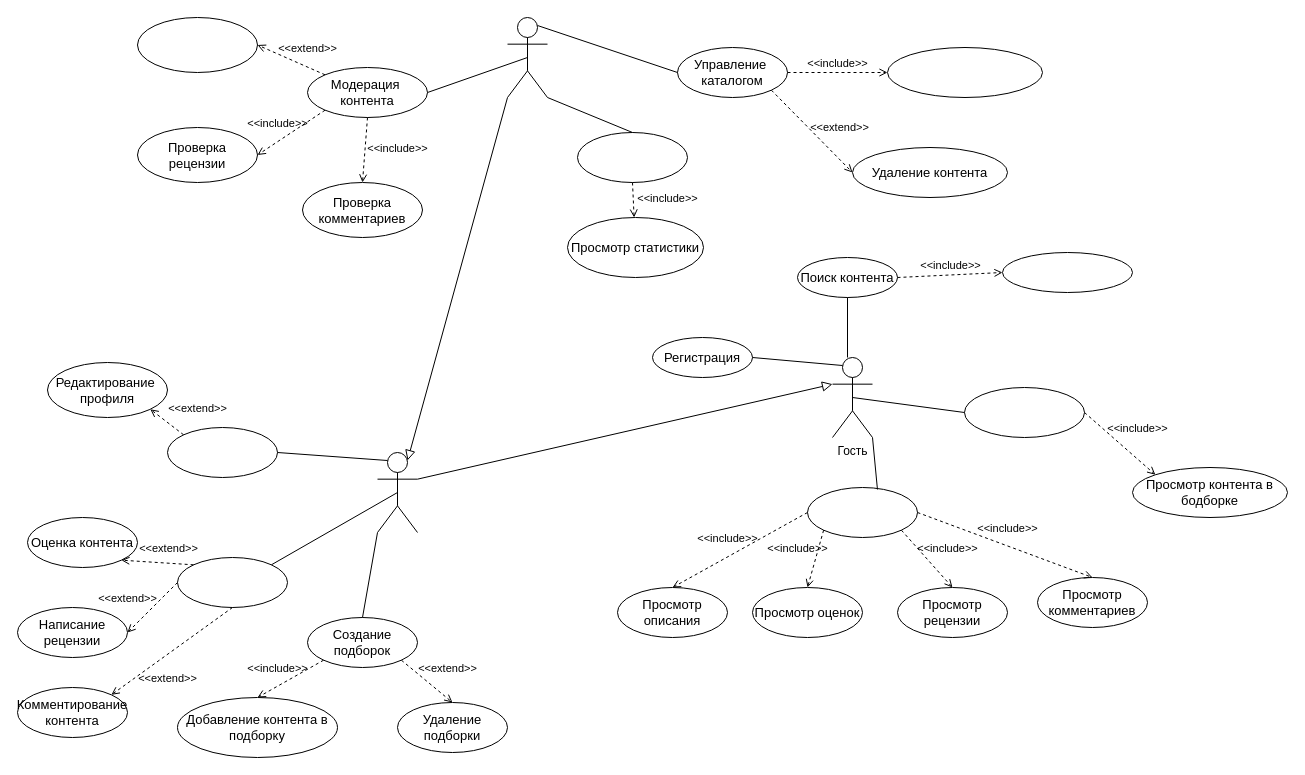
Image size: 1305x775. Some labels were removed from this diagram. The box of each missing label's shape, as (x1, y1, x2, y2) in pixels:
Администратор: (506, 16, 548, 98)
Аналитика системы: (576, 132, 688, 182)
Блокировка пользователя: (136, 16, 258, 72)
Взаимодействие с контентом: (176, 556, 288, 608)
Добавление контента: (886, 46, 1042, 98)
Пользователь: (376, 452, 418, 532)
Просмотр контента: (806, 486, 918, 538)
Просмотр подборок: (964, 386, 1084, 438)
Просмотр результатов: (1002, 252, 1132, 292)
Управление профилем: (166, 426, 278, 478)
